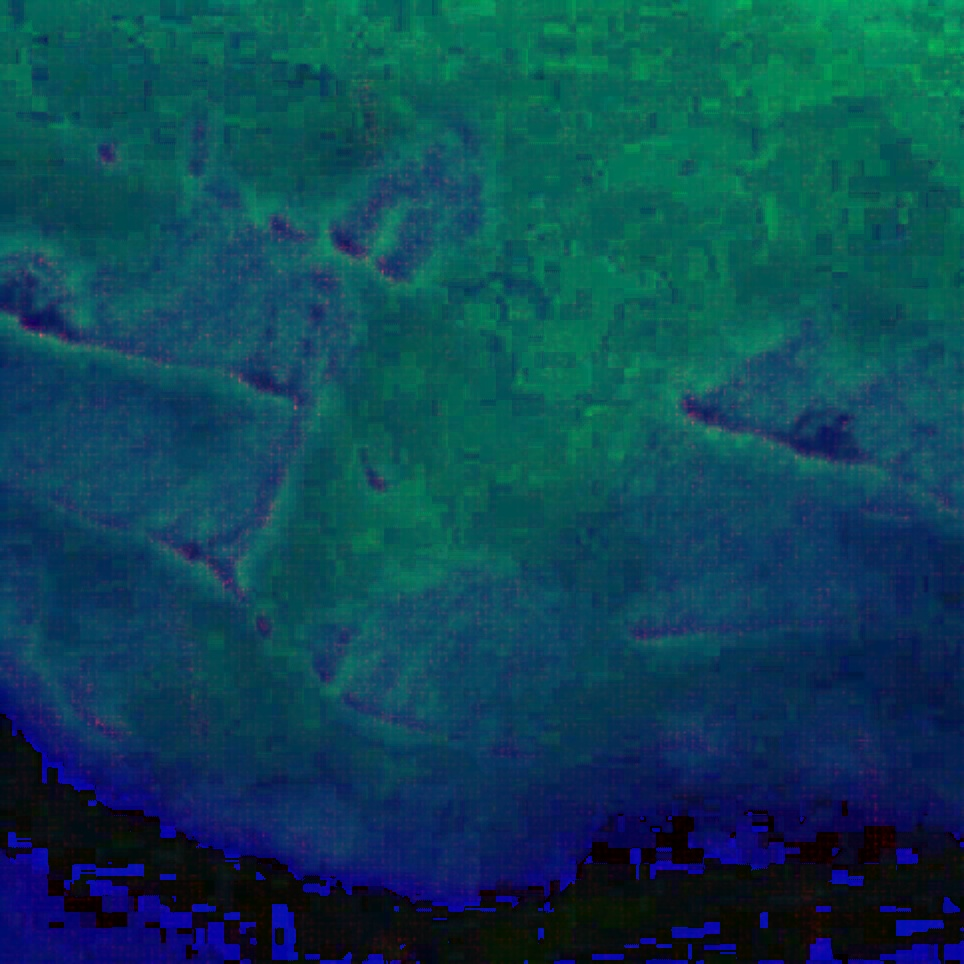rip_current: (179, 164, 723, 720)
